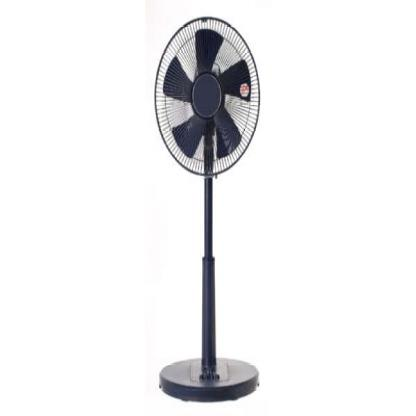fan: (149, 12, 268, 403)
